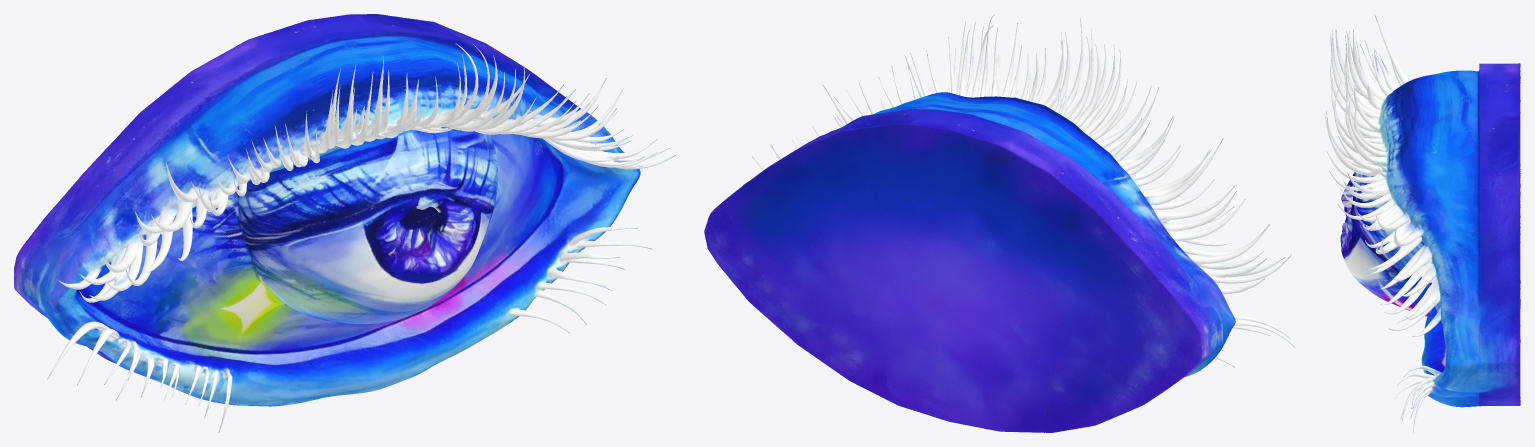
The model's file is eye.glb.
The picture shows the model from 3 angles, left to right: view 1: azimuth 30°, elevation 25°; view 2: azimuth 150°, elevation 25°; view 3: azimuth 270°, elevation 25°; orthographic projection. The views are drawn at different scales.
Parts seen in each view (by area): view 1: mesh_node.010; view 2: mesh_node.010; view 3: mesh_node.010.
Part boxes in pixels (bbox=[...]): mesh_node.010: bbox=[14, 14, 675, 432]; mesh_node.010: bbox=[704, 14, 1295, 432]; mesh_node.010: bbox=[1324, 14, 1520, 432].
Bounding box in the file's own units: 1.7 × 1.03 × 0.5568.
1 material, 1 textured.
